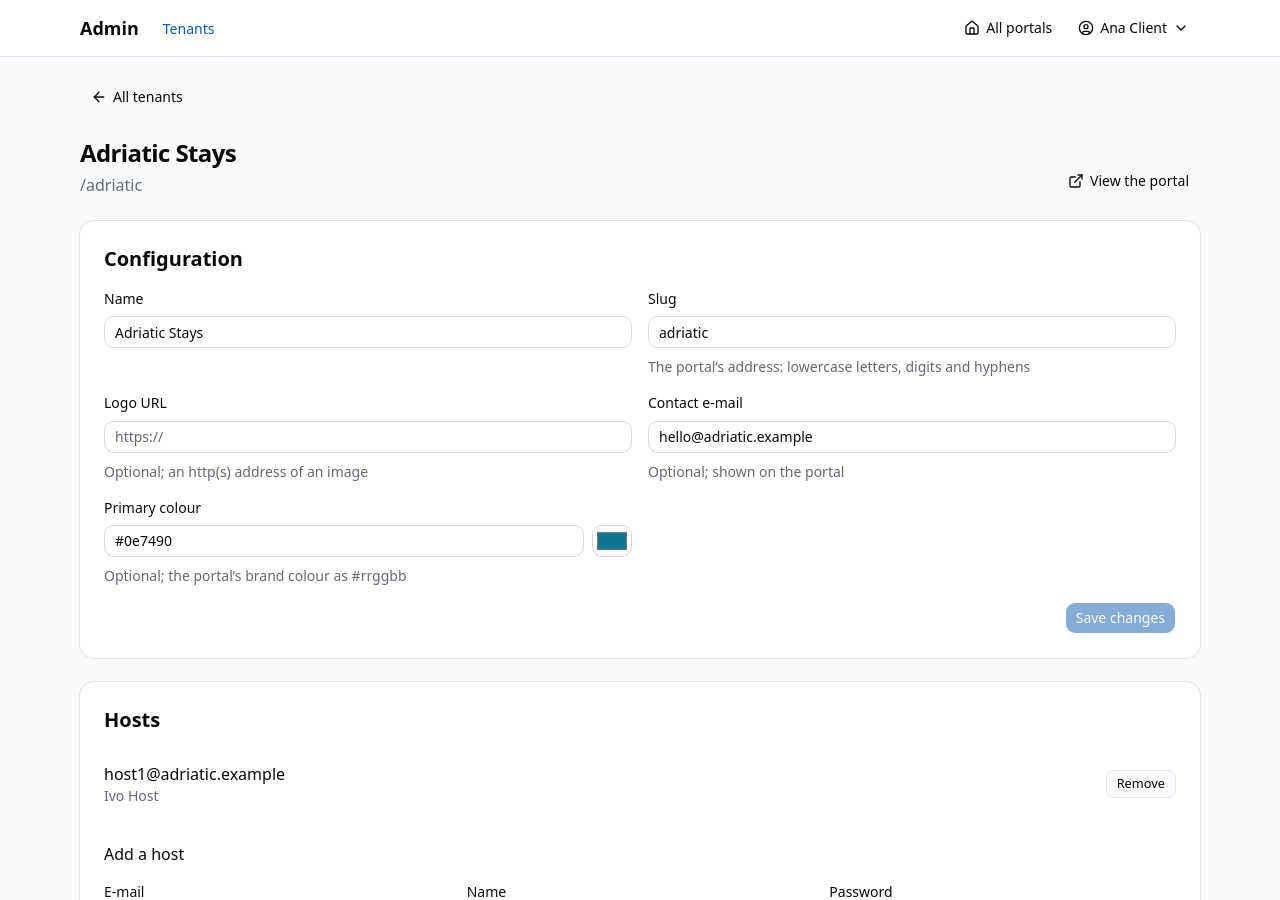
it: AdminTenantPage — configuration › saves only the changed fields, a cleared one as null
Replace the text in the field labelled "Name" with "  Adriatic Villas " at (368, 332), box top-left (104, 316), bottom-right (632, 348)
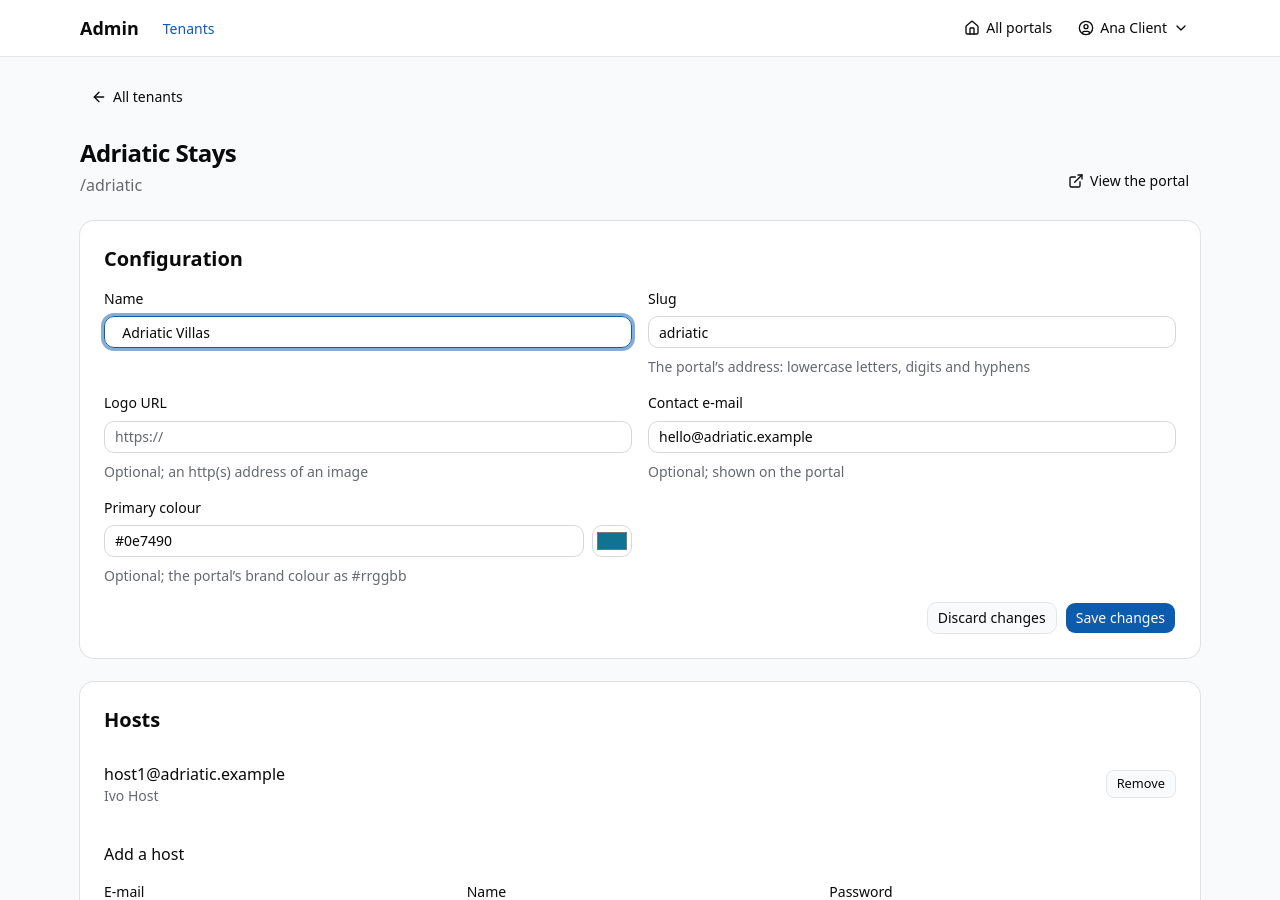
Clear the field labelled "Contact e-mail" at (912, 436), box top-left (648, 420), bottom-right (1176, 452)
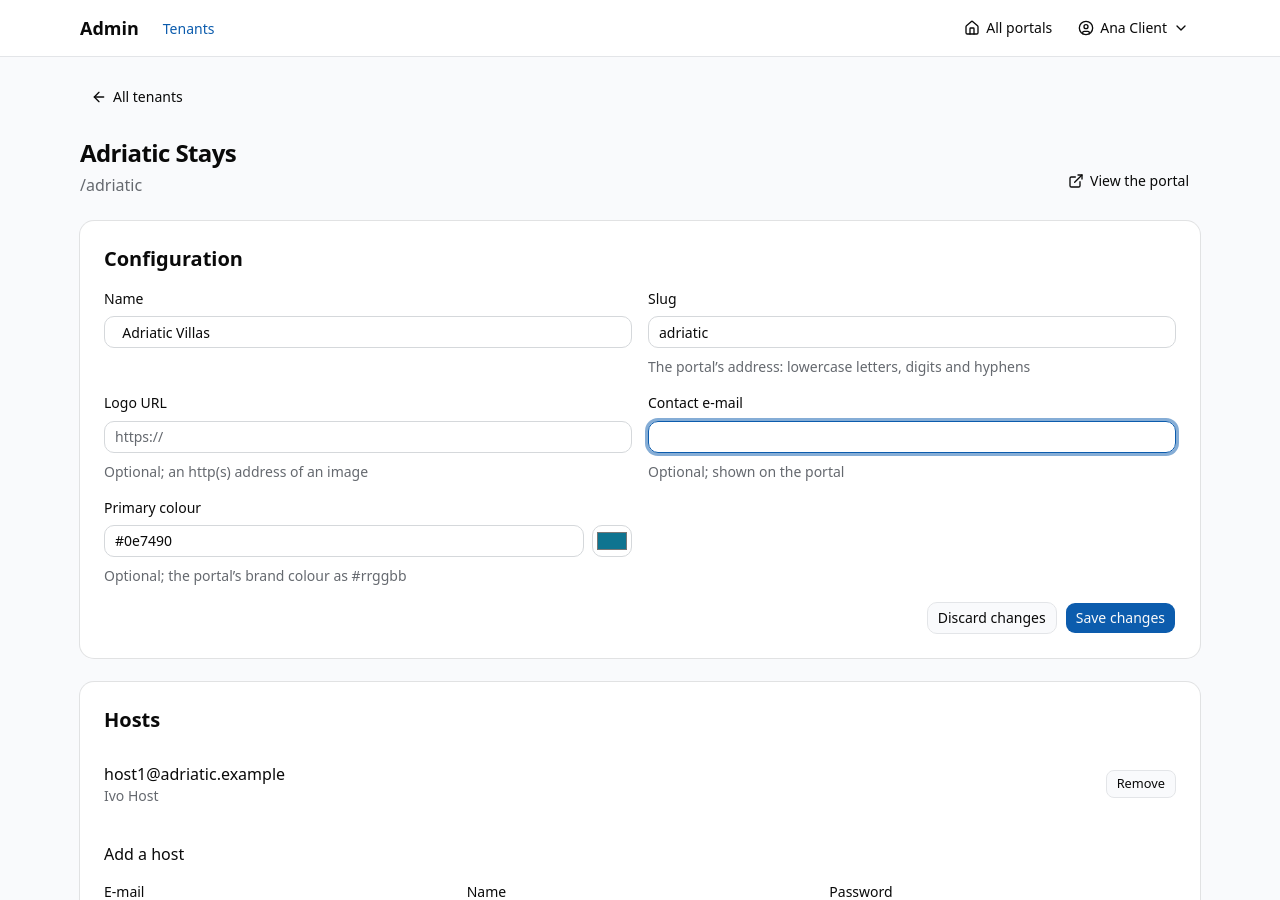
Click the button "Save changes" at (1120, 618), box top-left (1065, 602), bottom-right (1176, 634)
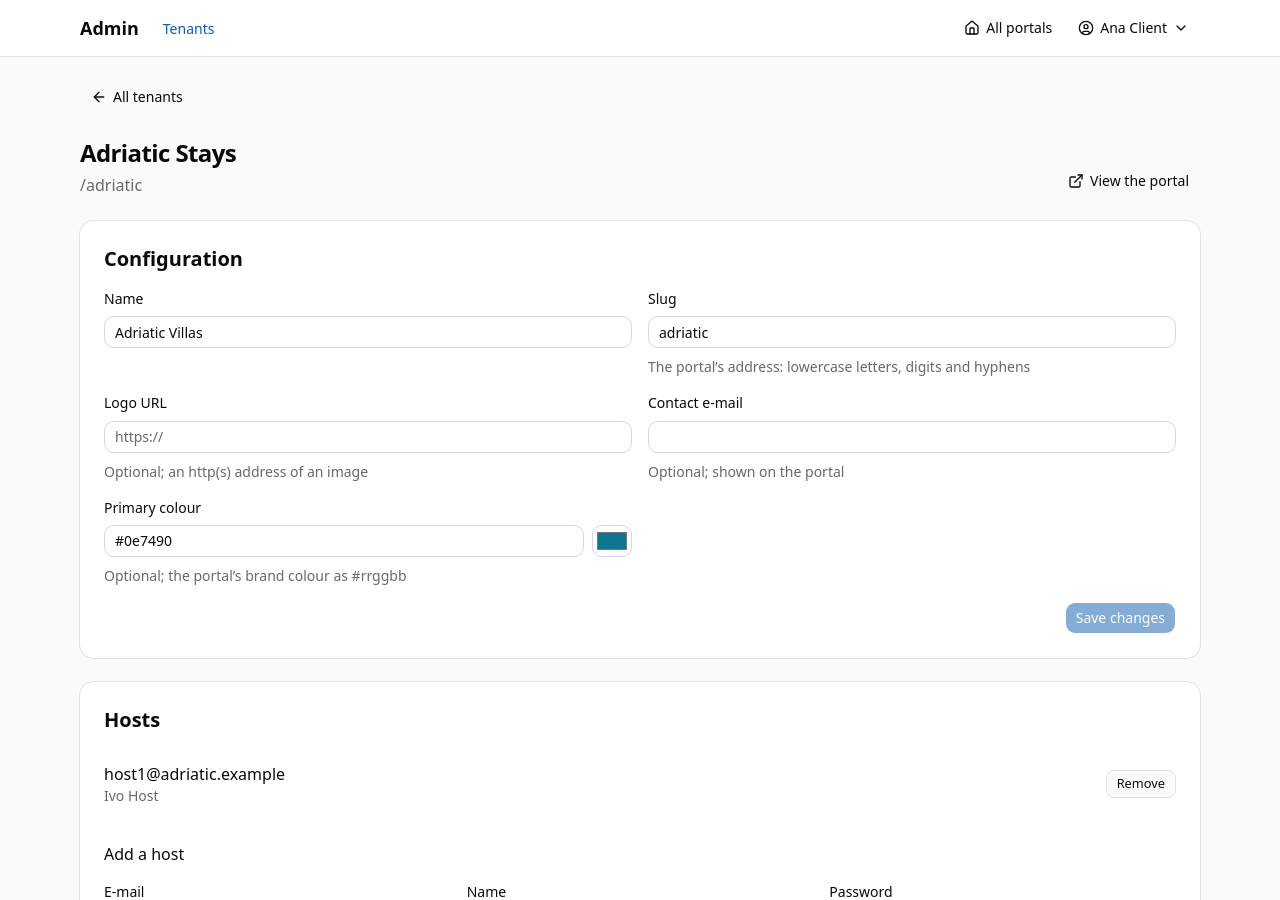
Now the button "Save changes" is disabled, box top-left (1065, 602), bottom-right (1176, 634)
